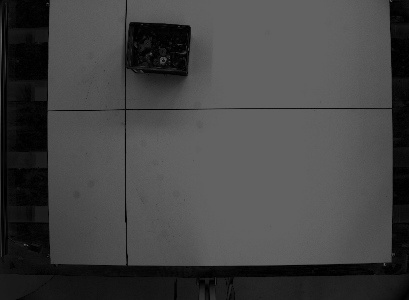klts: (123, 18, 193, 77)
